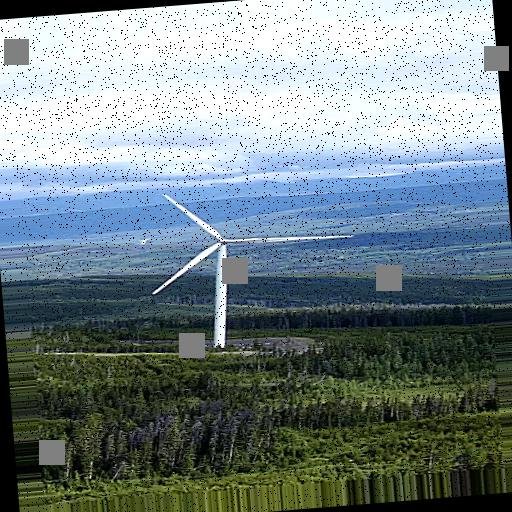wind turbine: (152, 191, 356, 344)
